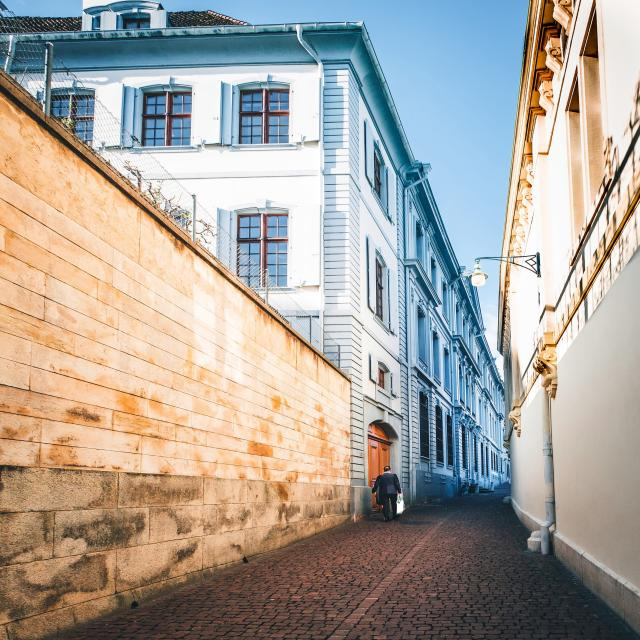adult: (374, 465, 403, 521)
